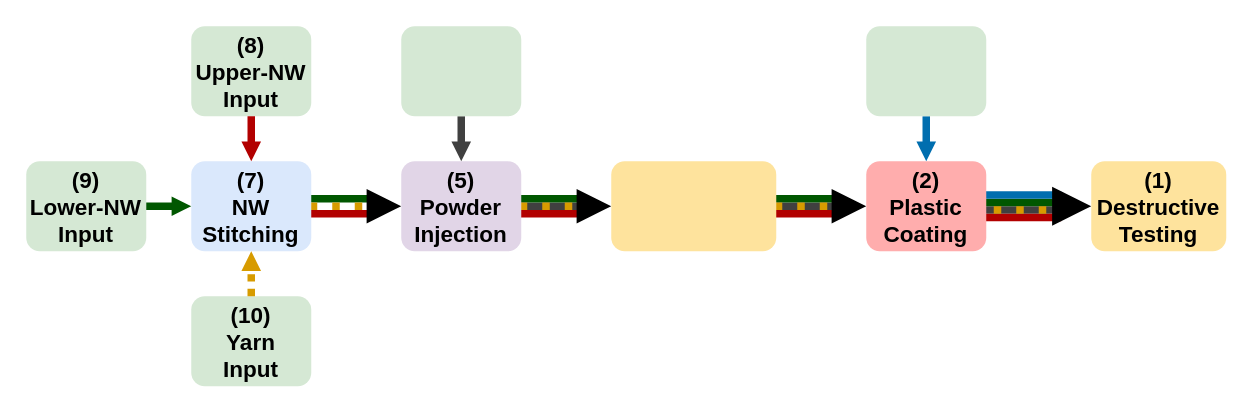
Image size: 1251x411. Some labels were removed from this diagram. The centre of each missing label's shape, as x and y in pixels:
"(3) Plastic Input" goes at point (926, 71).
"(4) Profile Measurement" goes at point (693, 205).
"(6) Powder Input" goes at point (460, 71).
